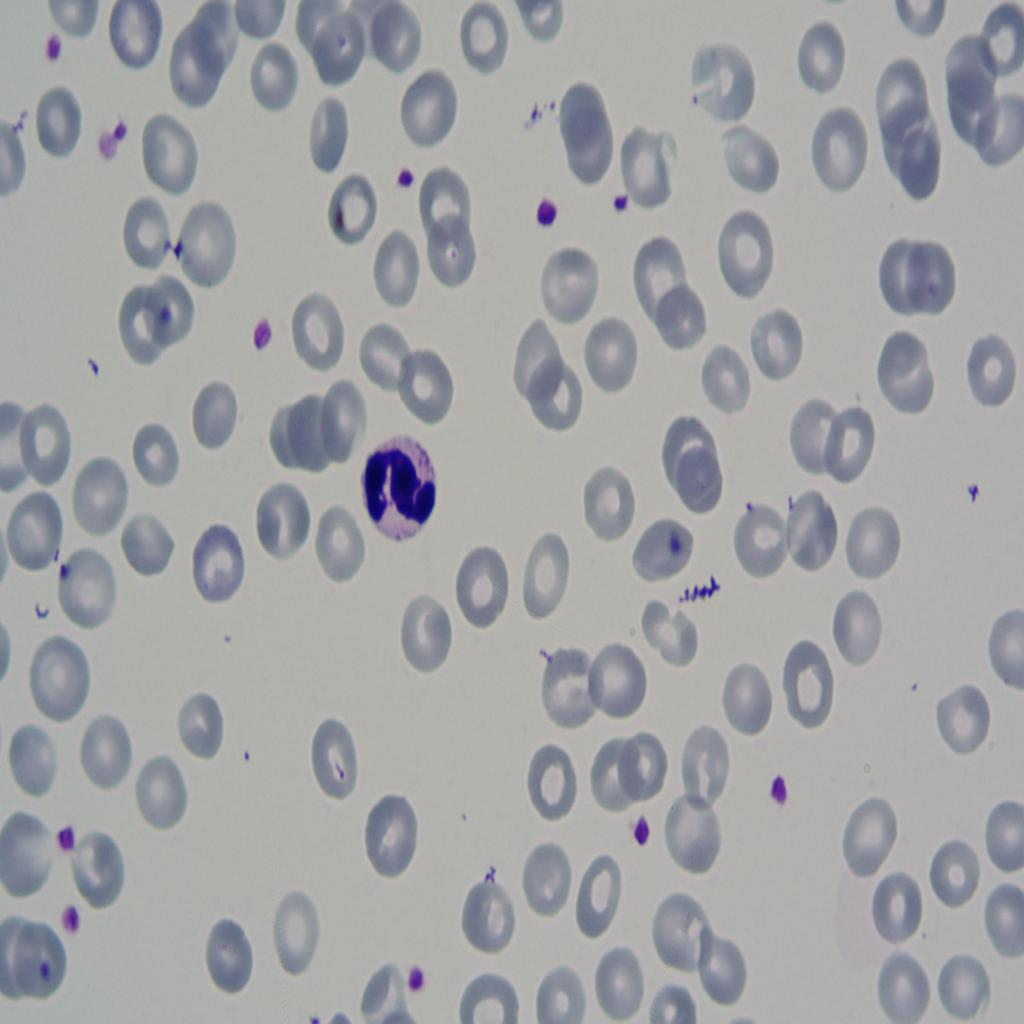Neutrofil: (352, 434, 446, 553)
Platelet: (388, 148, 422, 204), (763, 763, 796, 816), (36, 26, 69, 78), (620, 815, 664, 850), (34, 937, 62, 990), (54, 815, 83, 864), (606, 178, 640, 219), (535, 186, 563, 235), (960, 468, 986, 520), (103, 107, 134, 145), (94, 126, 119, 169), (249, 317, 276, 355), (57, 900, 87, 934), (402, 962, 428, 997), (158, 294, 178, 334), (667, 528, 688, 554)
